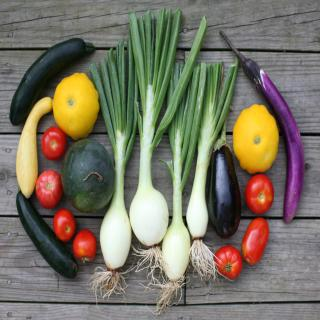tomato: (240, 217, 269, 265), (246, 174, 274, 216), (40, 125, 66, 161), (212, 247, 240, 280), (35, 170, 61, 205), (72, 227, 96, 263), (53, 210, 75, 240)
